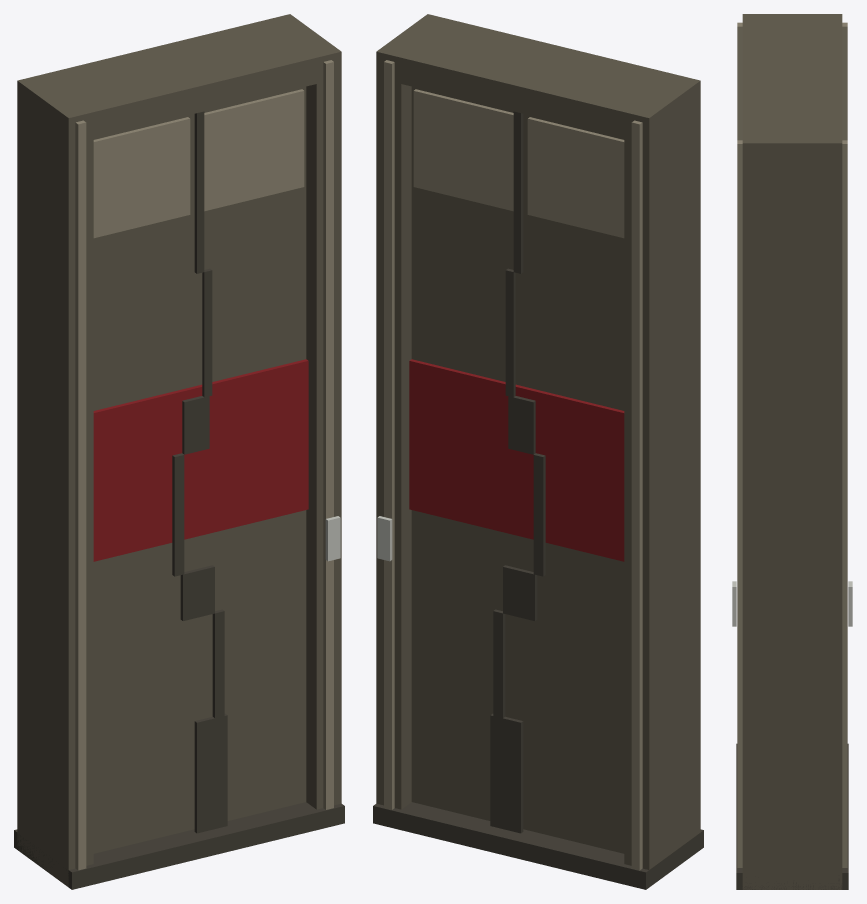
Rendered from CMU3DSingleSecurityGovforDoor.glb.
3 renders of one model, left to right at view 1: azimuth 30°, elevation 25°; view 2: azimuth 150°, elevation 25°; view 3: azimuth 270°, elevation 25°, orthographic. The views are drawn at different scales.
Parts seen in each view (by area): view 1: closed leaf body, door jamb (×2), department color band, header, upper inset band (×2), jamb raised edge (×2), leaf meeting seam (×7), threshold, side access reader; view 2: closed leaf body, door jamb (×2), department color band back, header, upper inset band back (×2), jamb raised edge (×2), leaf meeting seam back (×7), threshold, side access reader back; view 3: door jamb (×2), header, jamb raised edge (×4), threshold.
Part boxes in pixels (left/top/right/bottom): closed leaf body: left=93, top=86, right=306, bottom=853; door jamb (×2): left=17, top=14, right=341, bottom=887; department color band: left=93, top=359, right=308, bottom=561; header: left=17, top=14, right=341, bottom=144; upper inset band (×2): left=93, top=89, right=304, bottom=238; jamb raised edge (×2): left=75, top=60, right=333, bottom=870; leaf meeting seam (×7): left=172, top=111, right=227, bottom=833; threshold: left=14, top=802, right=344, bottom=889; side access reader: left=325, top=516, right=340, bottom=561; closed leaf body: left=411, top=86, right=624, bottom=853; door jamb (×2): left=376, top=14, right=700, bottom=869; department color band back: left=409, top=359, right=624, bottom=561; header: left=376, top=14, right=700, bottom=144; upper inset band back (×2): left=413, top=89, right=624, bottom=238; jamb raised edge (×2): left=384, top=60, right=642, bottom=870; leaf meeting seam back (×7): left=490, top=111, right=545, bottom=833; threshold: left=373, top=802, right=703, bottom=889; side access reader back: left=377, top=516, right=392, bottom=561; door jamb (×2): left=742, top=14, right=842, bottom=889; header: left=742, top=14, right=842, bottom=168; jamb raised edge (×4): left=737, top=22, right=847, bottom=867; threshold: left=736, top=743, right=848, bottom=889.
Size of the model in its own units: 0.98 by 2.64 by 0.386.
